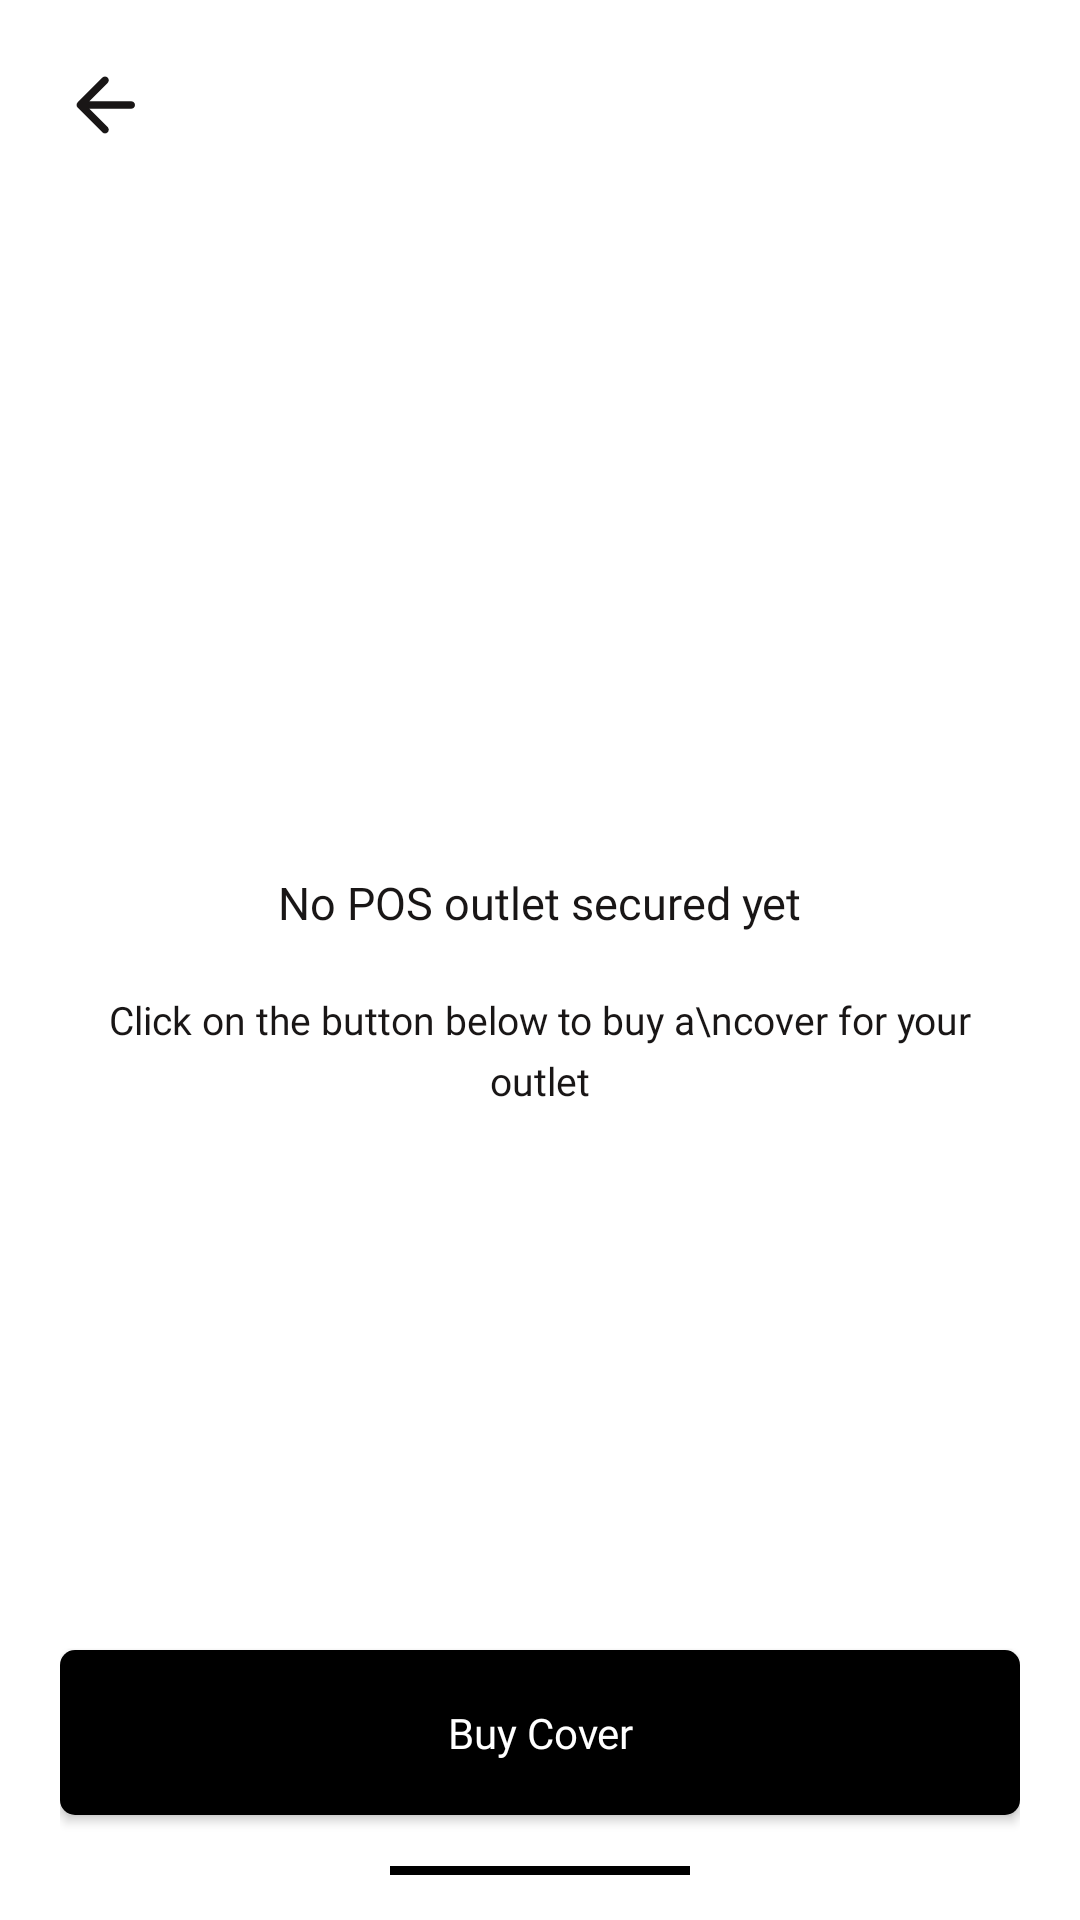

Named icons in this screenshot (1080 × 1920) and their centers, (x=x, y=y):
arrow left: (x=105, y=105)
